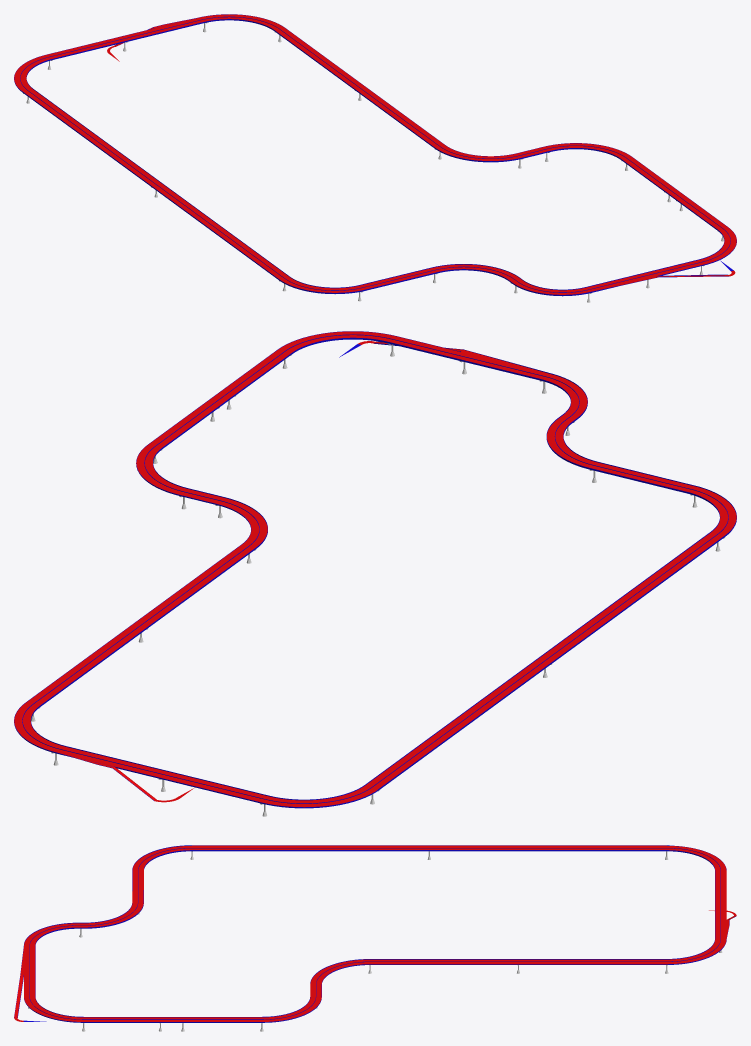
Rendered from highway.fbx.
The picture shows the model from 3 angles, top to bottom: view 1: azimuth 30°, elevation 25°; view 2: azimuth 150°, elevation 25°; view 3: azimuth 270°, elevation 25°; orthographic projection. The views are drawn at different scales.
Parts seen in each view (by area): view 1: Cylinder.003, Cylinder.016; view 2: Cylinder.003, Cylinder.016; view 3: Cylinder.003.
Part boxes in pixels (x1=…): Cylinder.003: x1=14, y1=14, x2=736, y2=296; Cylinder.016: x1=23, y1=22, x2=724, y2=302; Cylinder.003: x1=14, y1=331, x2=736, y2=808; Cylinder.016: x1=31, y1=343, x2=725, y2=816; Cylinder.003: x1=14, y1=845, x2=736, y2=1022.
Bounding box in the file's own units: 60631 × 1988 × 104954.
